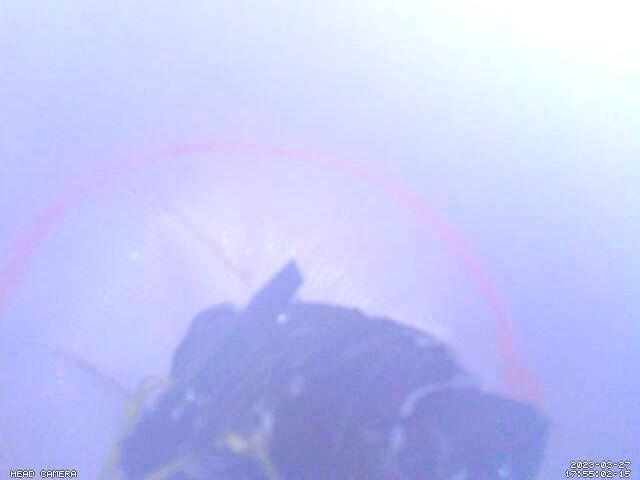head: (2, 140, 546, 410)
